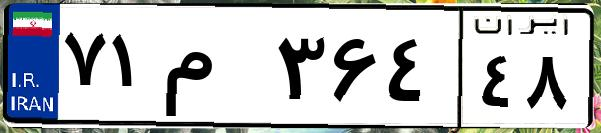1: (110, 28, 158, 98)
3: (270, 28, 330, 110)
4: (385, 28, 445, 110), (475, 38, 525, 113)
6: (330, 28, 385, 110)
7: (57, 26, 110, 100)
8: (525, 38, 570, 115)
م: (158, 20, 270, 120)
